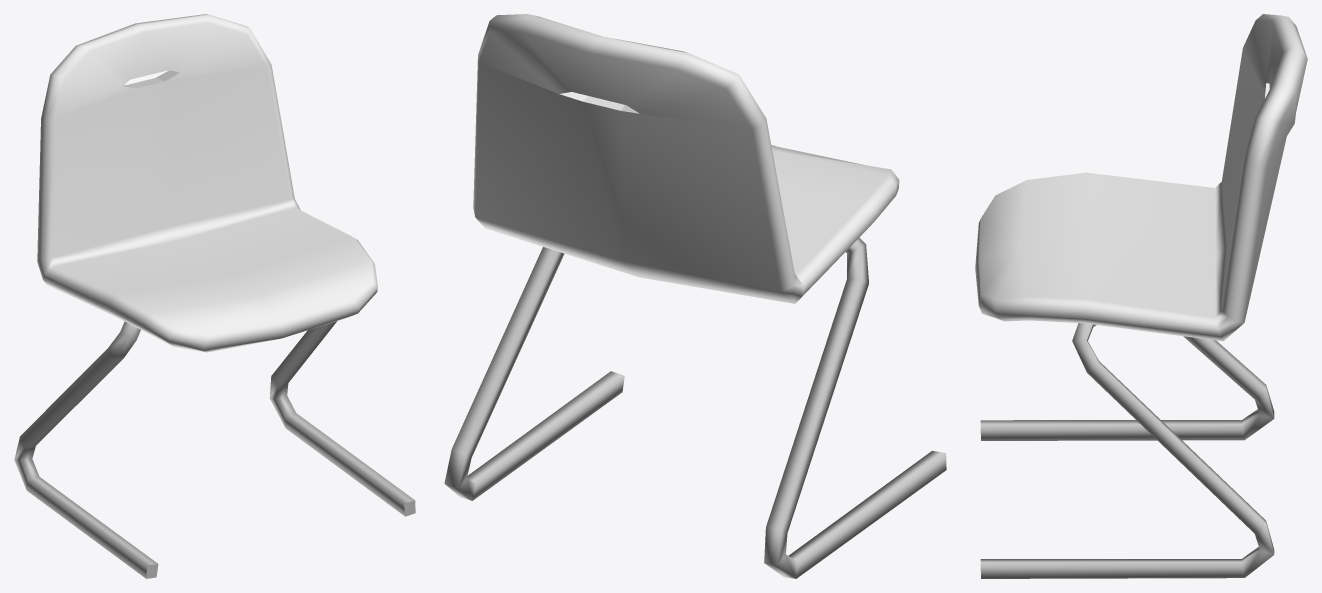
File: chair_039.fbx
3 renders of one model, left to right at view 1: azimuth 30°, elevation 25°; view 2: azimuth 150°, elevation 25°; view 3: azimuth 270°, elevation 25°, orthographic. The views are drawn at different scales.
Visible parts, largest first — view 1: chair_039; view 2: chair_039; view 3: chair_039.
Part boxes in pixels (x1,y1,x2,y2): chair_039: (14,14,415,578); chair_039: (444,14,946,578); chair_039: (975,14,1307,578).
Bounding box in the file's own units: 75.81 × 73.75 × 113.
